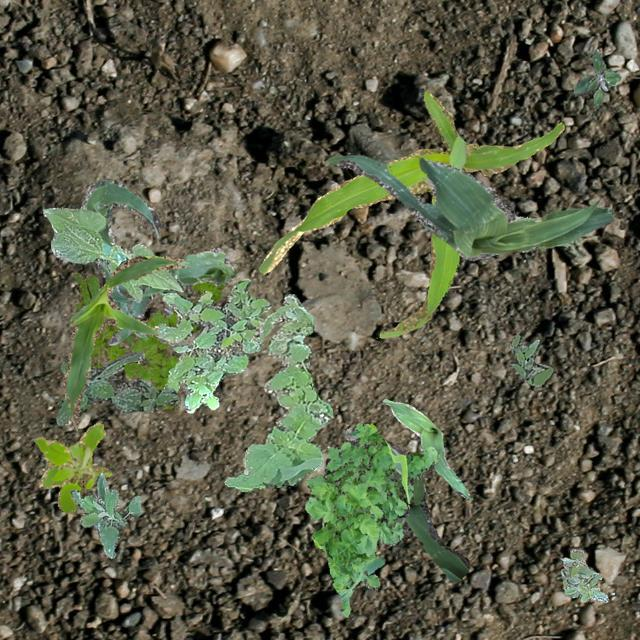crop: (258, 90, 562, 338), (323, 153, 612, 260), (62, 255, 192, 432), (342, 426, 468, 580), (42, 206, 184, 302), (80, 178, 160, 338), (107, 246, 236, 344), (382, 398, 471, 498)
weed: (304, 422, 438, 616), (224, 292, 332, 490), (90, 281, 224, 414), (154, 278, 270, 412), (55, 351, 178, 424), (33, 422, 110, 512), (68, 472, 140, 558), (72, 272, 136, 346), (572, 48, 620, 106), (560, 548, 608, 602), (508, 334, 552, 386)
